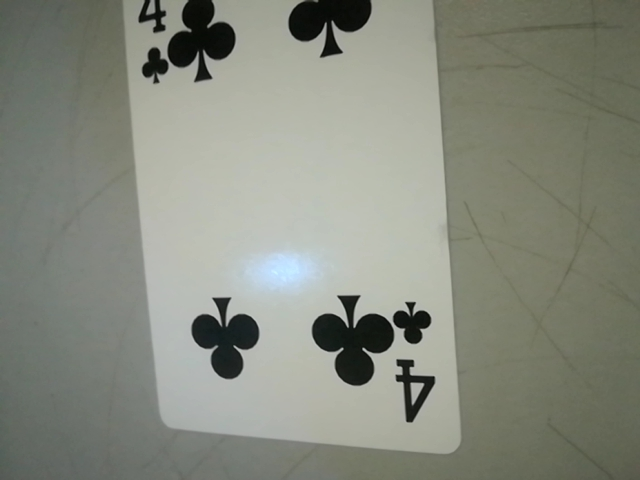mh 4: (386, 289, 450, 434), (126, 0, 179, 91)
